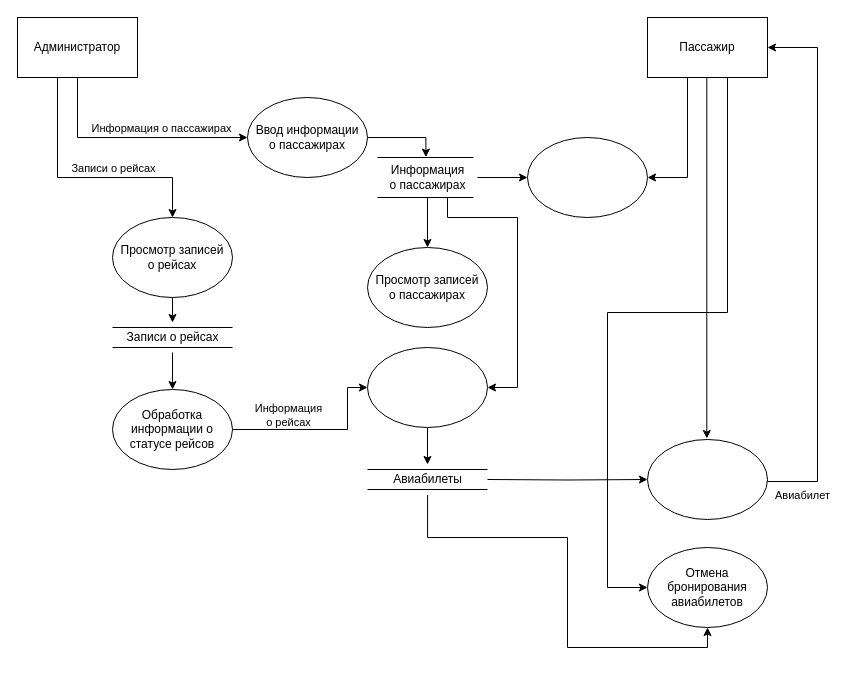
This 847x673 diagram has some shape labels left out. The centre of each missing label's shape, as x and y in pixels:
Бронирование авиабилетов: (707,479)
Продажа авиабилетов: (427,387)
Просмотр деталей бронирования: (587,177)
